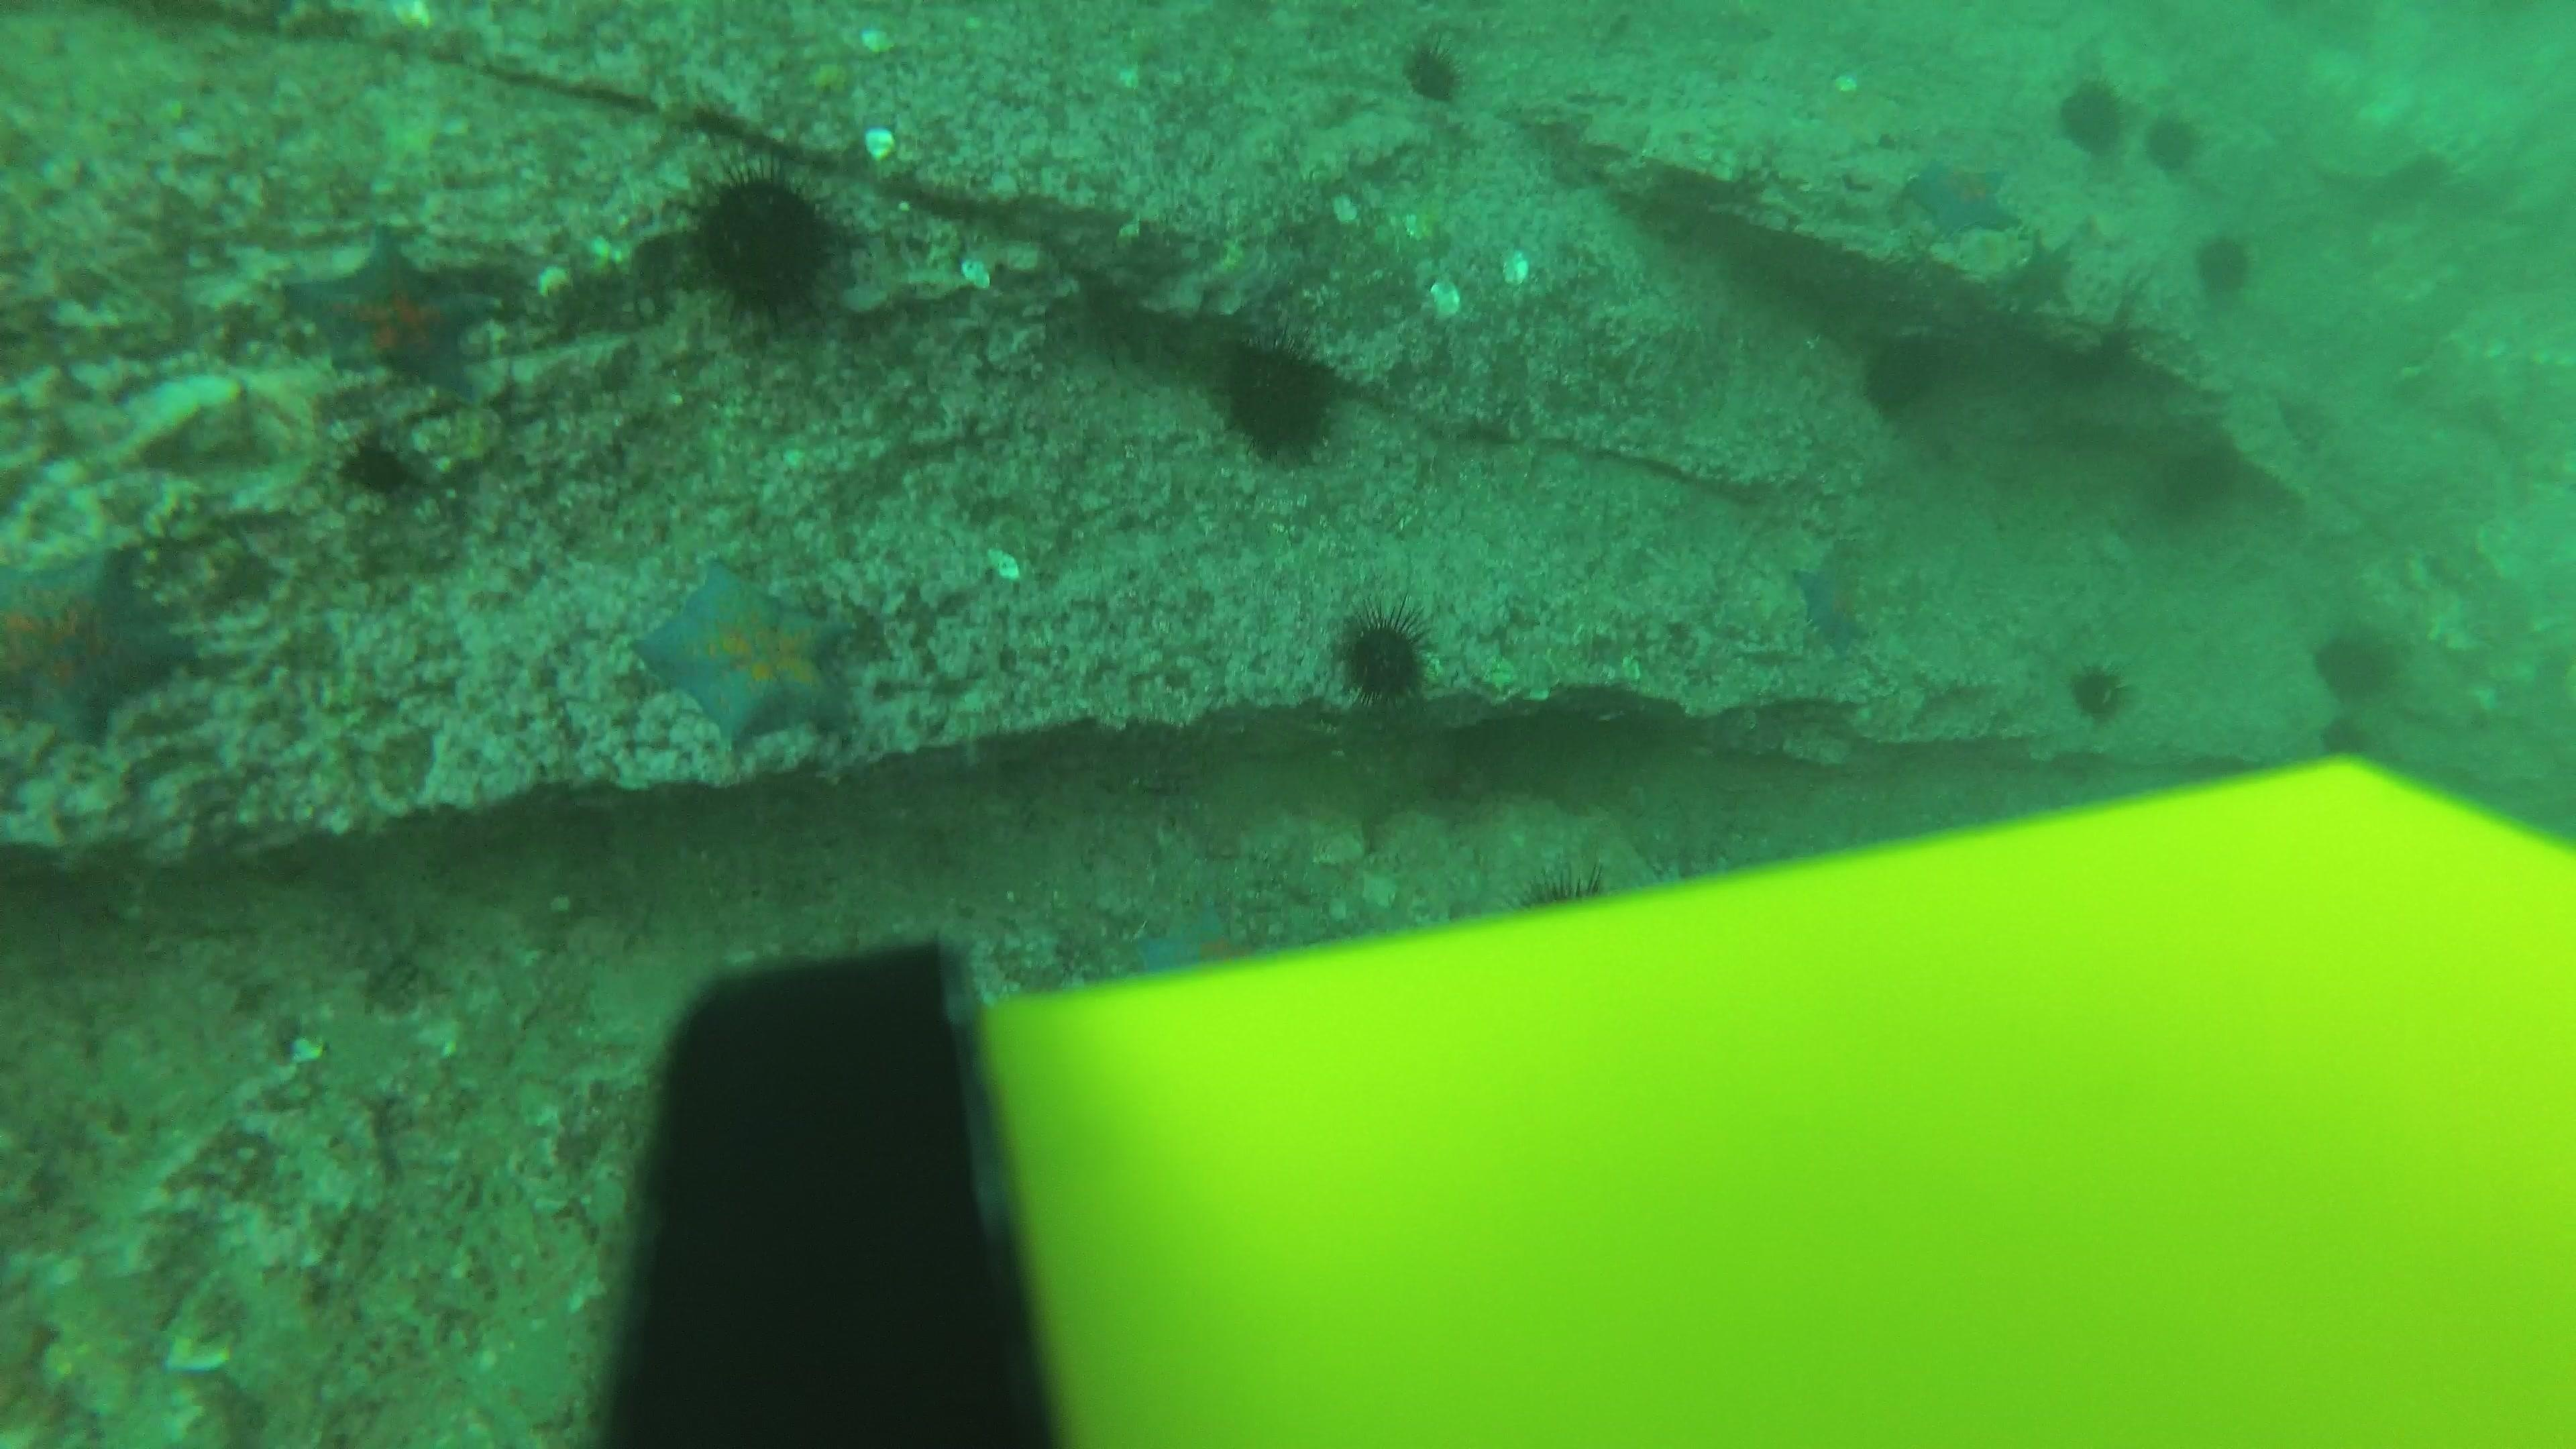echinus: (678, 157, 856, 326), (1207, 329, 1348, 465), (1327, 602, 1438, 708), (2135, 433, 2245, 527), (1486, 846, 1621, 922), (2300, 612, 2403, 702), (1852, 327, 1950, 421), (2051, 71, 2135, 157), (1392, 35, 1474, 108), (2059, 655, 2137, 727), (2189, 228, 2259, 301), (2305, 708, 2381, 768), (2141, 106, 2206, 175)
starfish: (628, 554, 862, 757), (2, 529, 202, 748), (276, 226, 502, 395), (1898, 154, 2024, 244), (1118, 893, 1249, 975), (1785, 543, 1879, 653), (2006, 235, 2079, 311)
